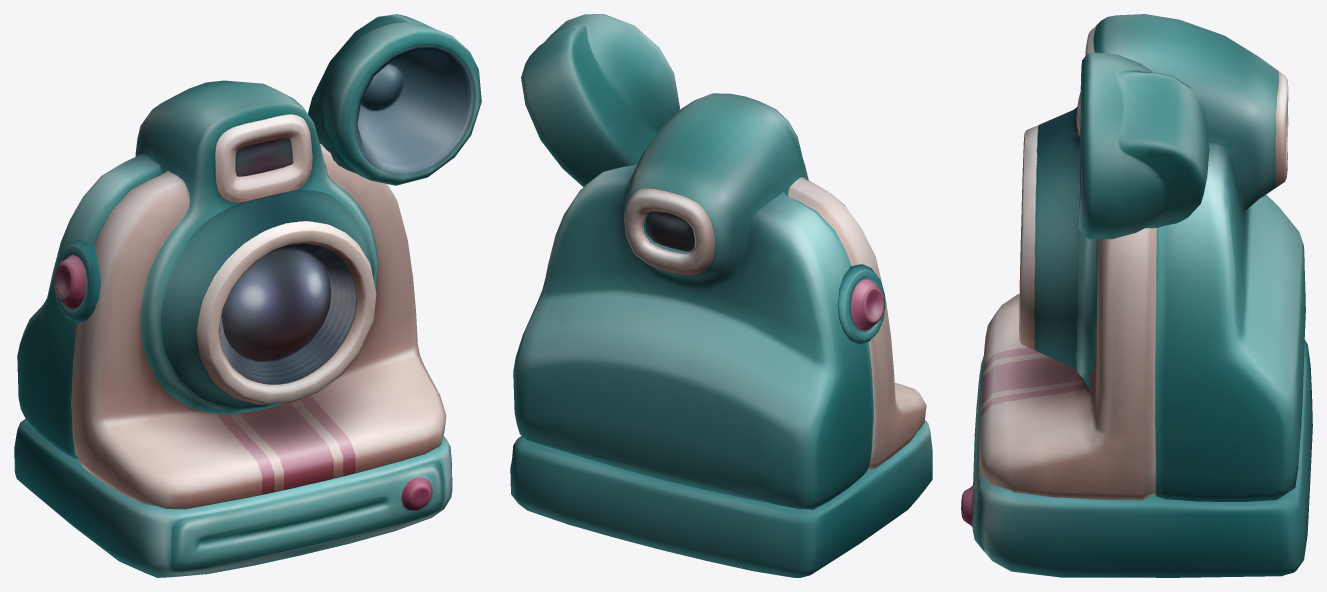
The model's file is Instant Camera.FBX.
3 views of the same model, side by side, from view 1: azimuth 30°, elevation 25°; view 2: azimuth 150°, elevation 25°; view 3: azimuth 270°, elevation 25° (orthographic). The views are drawn at different scales.
Visible parts, largest first — view 1: Instant Camera; view 2: Instant Camera; view 3: Instant Camera.
Boxes of the visible parts, x1,y1,x2,y2 form: Instant Camera: [14, 14, 481, 577]; Instant Camera: [510, 14, 932, 577]; Instant Camera: [961, 14, 1312, 577].
Size of the model in its own units: 32.88 by 22.76 by 37.64.
1 material, 1 textured.
